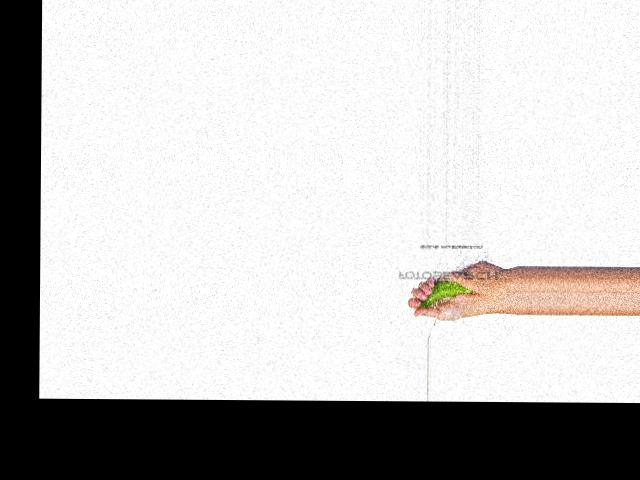cucumber: (418, 278, 475, 308)
